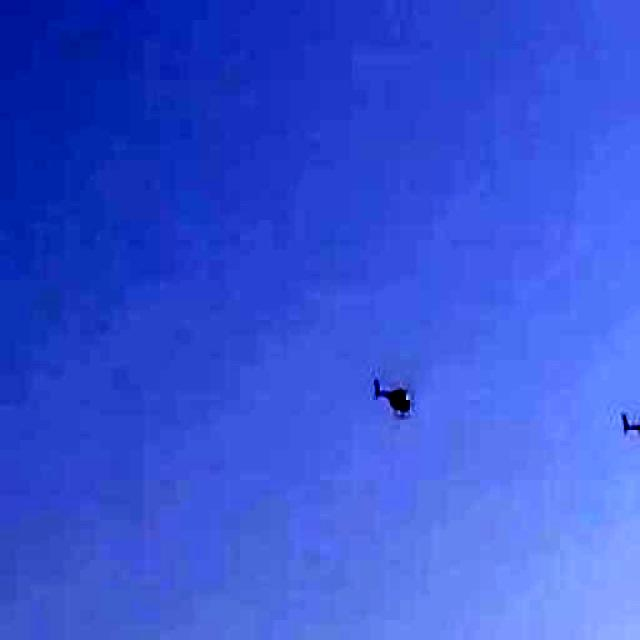drone: (359, 355, 425, 435), (602, 391, 640, 461)
